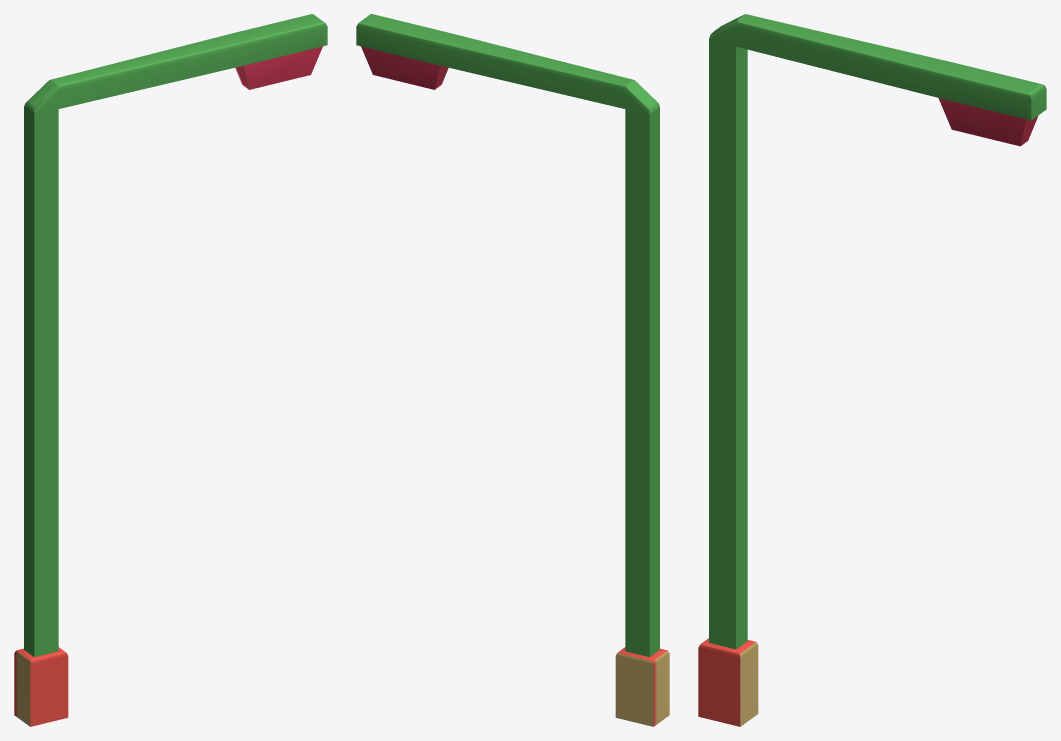
Rendered from Lamp_01.fbx.
3 views of the same model, side by side, from view 1: azimuth 30°, elevation 25°; view 2: azimuth 150°, elevation 25°; view 3: azimuth 330°, elevation 25° (orthographic). The views are drawn at different scales.
Visible parts, largest first — view 1: pCube122; view 2: pCube122; view 3: pCube122.
Boxes of the visible parts, x1,y1,x2,y2 form: pCube122: [14, 14, 327, 726]; pCube122: [356, 14, 669, 726]; pCube122: [698, 14, 1046, 726].
Size of the model in its own units: 2.25 by 4.55 by 0.2091.
Materials: 1 (1 with a texture image).
